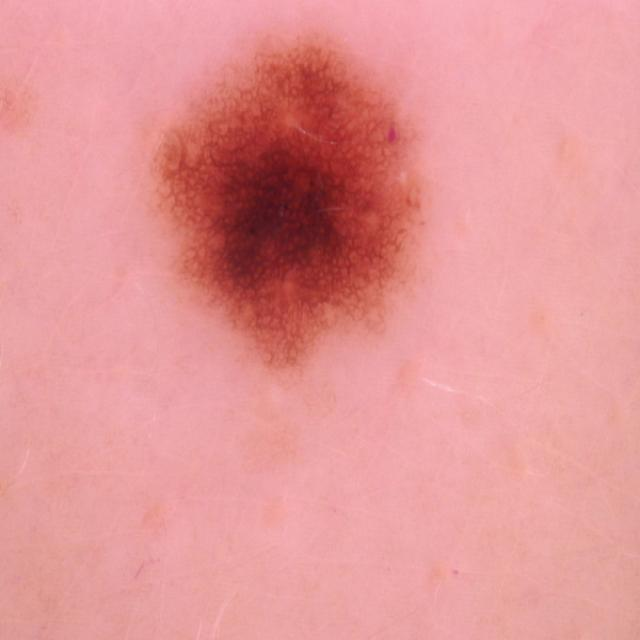NV: (148, 28, 428, 375)
